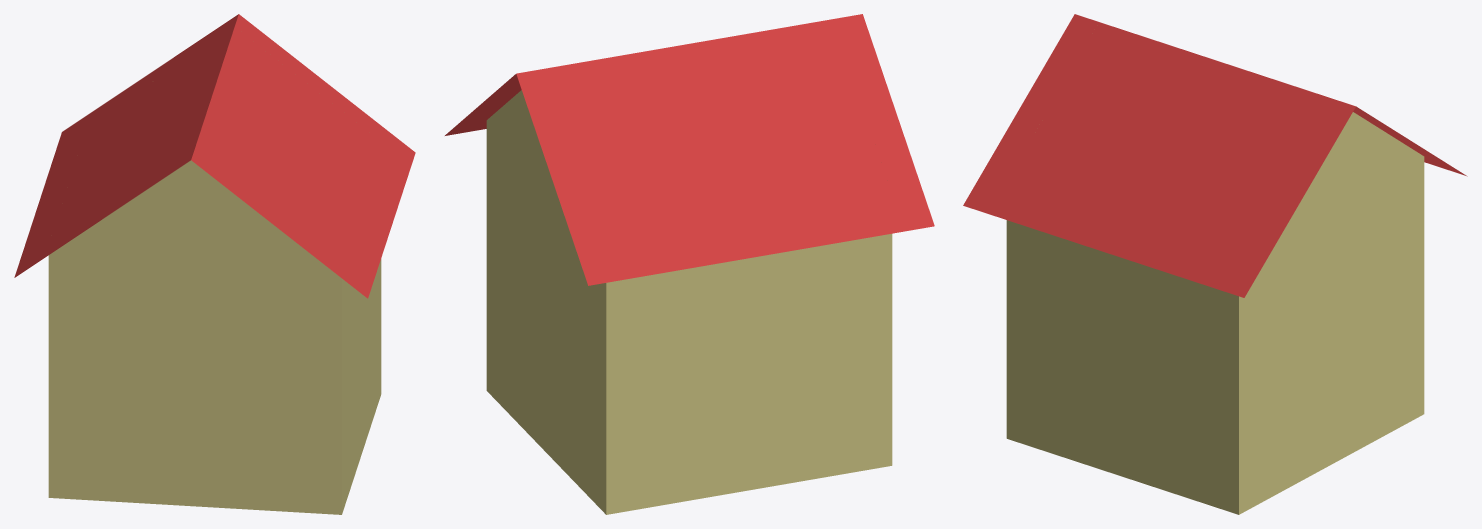
3 renders of one model, left to right at view 1: azimuth 30°, elevation 25°; view 2: azimuth 150°, elevation 25°; view 3: azimuth 270°, elevation 25°, orthographic. The views are drawn at different scales.
Parts seen in each view (by area): view 1: group_5, group_3, group_4; view 2: group_5, group_3, group_4; view 3: group_5, group_3, group_4.
Boxes of the visible parts, x1,y1,x2,y2 form: group_5: [48, 160, 381, 514]; group_3: [49, 14, 380, 261]; group_4: [14, 14, 415, 298]; group_5: [486, 90, 892, 514]; group_3: [445, 14, 891, 285]; group_4: [516, 14, 934, 285]; group_5: [1006, 112, 1424, 514]; group_3: [1007, 22, 1467, 256]; group_4: [963, 14, 1376, 297].
Size of the model in its own units: 16.27 by 16.23 by 12.99.
